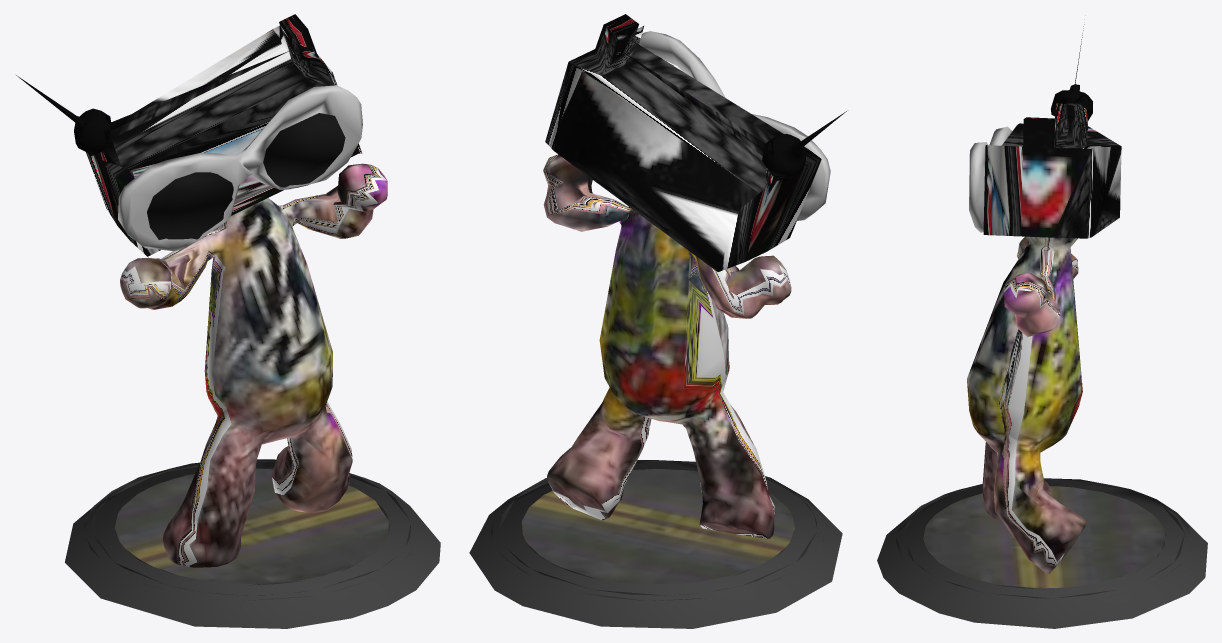
3 views of the same model, side by side, from view 1: azimuth 30°, elevation 25°; view 2: azimuth 150°, elevation 25°; view 3: azimuth 270°, elevation 25° (orthographic). The views are drawn at different scales.
Size of the model in its own units: 1.67 by 2.19 by 1.43.
8 materials, 3 textured.
